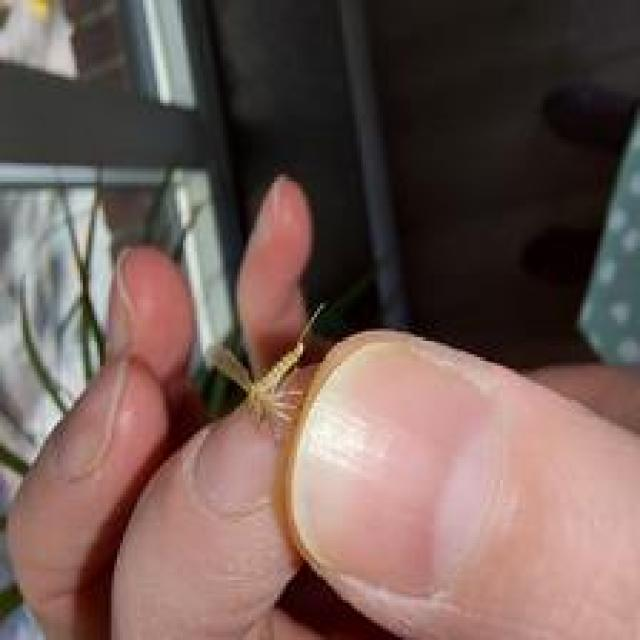Culex: (204, 300, 327, 431)
